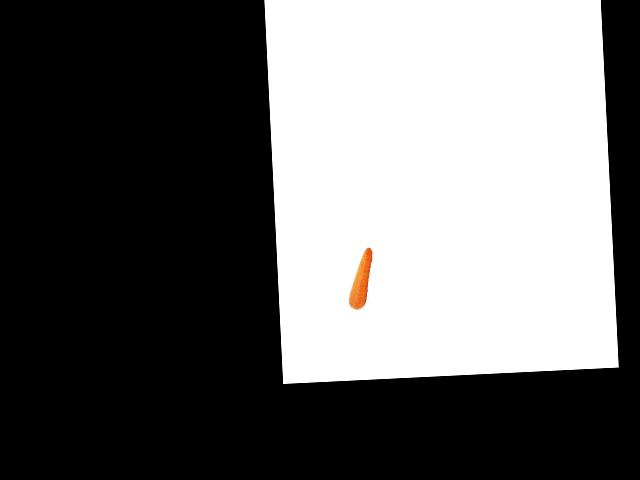carrot: (343, 244, 374, 310)
